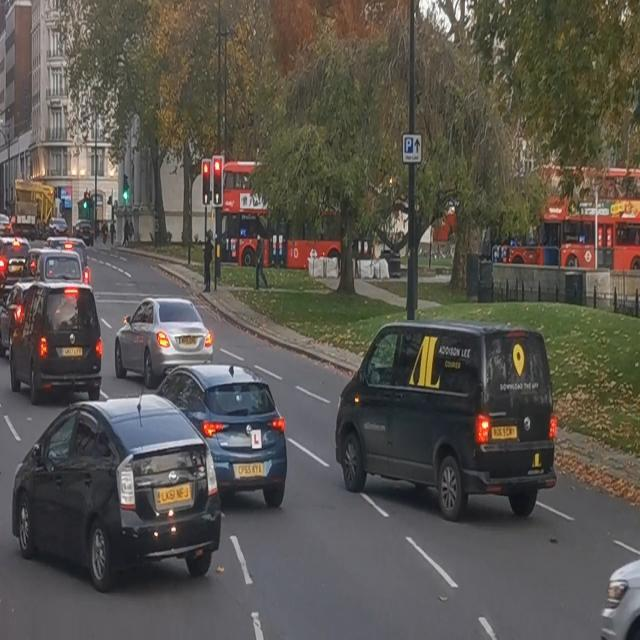Car: (10, 392, 223, 592), (153, 362, 287, 508), (113, 296, 214, 388), (599, 557, 639, 639)
MiniBus: (333, 319, 558, 521)
Traffic-light: (121, 174, 130, 203)
